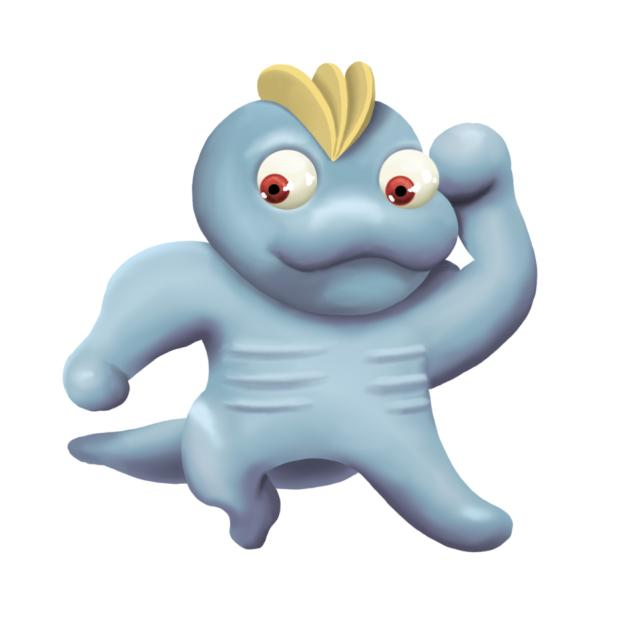Machop: (140, 64, 521, 551)
